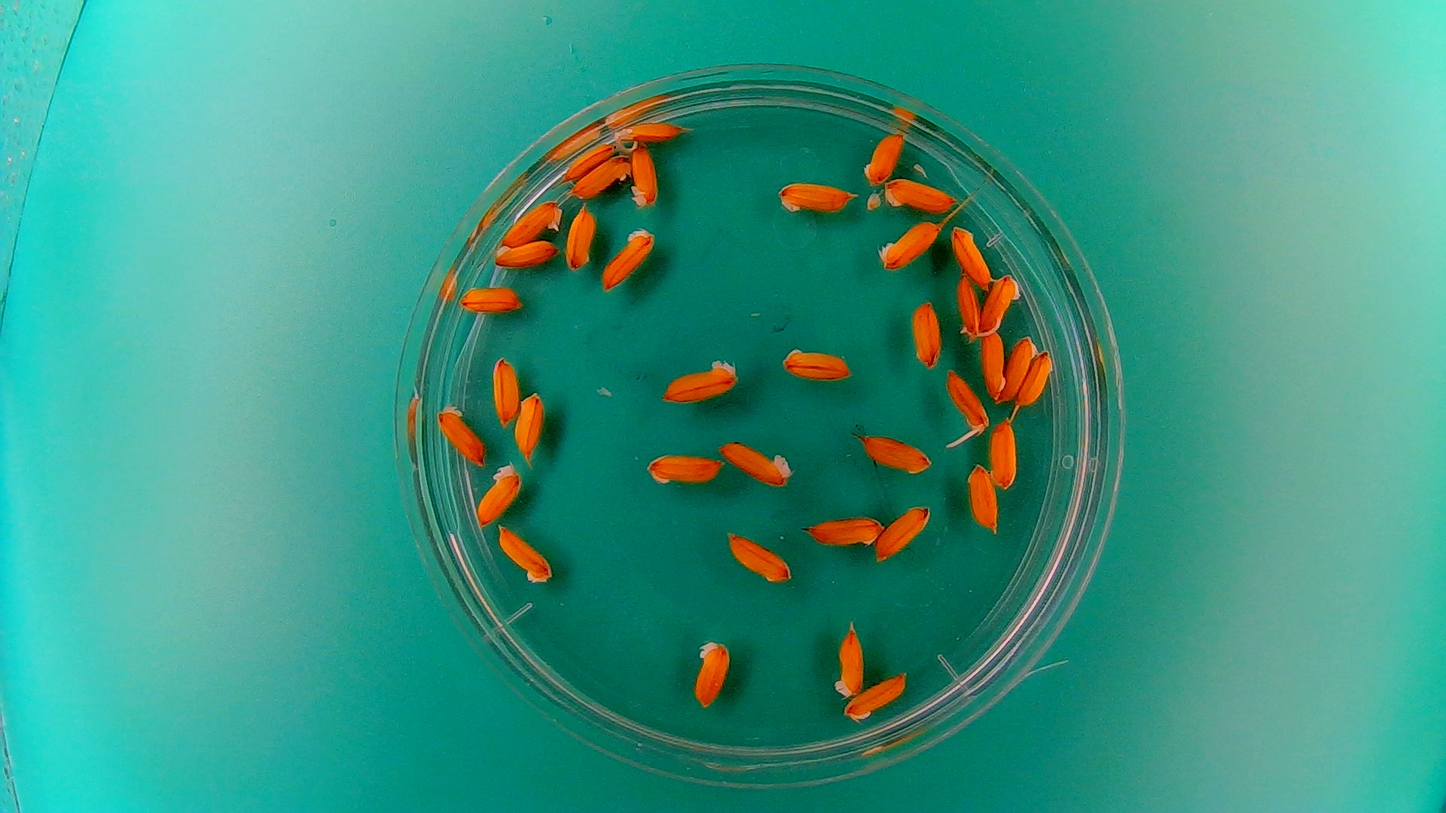no: (658, 353, 742, 406), (722, 527, 795, 586), (715, 436, 795, 489), (490, 524, 556, 587), (599, 223, 657, 293), (853, 429, 934, 476), (842, 668, 911, 723), (874, 218, 944, 272), (874, 501, 933, 564), (433, 399, 486, 467), (473, 460, 524, 528), (774, 176, 859, 216), (642, 449, 725, 489), (801, 511, 884, 550), (689, 636, 732, 710), (567, 153, 634, 200), (881, 175, 958, 214), (949, 221, 993, 289), (779, 343, 855, 382), (830, 617, 866, 699), (961, 462, 1002, 534), (978, 271, 1022, 336), (861, 127, 908, 187), (1002, 331, 1039, 403), (908, 296, 944, 369), (563, 202, 599, 273), (956, 270, 990, 343), (457, 279, 524, 316), (487, 353, 520, 428), (987, 417, 1020, 490), (563, 139, 618, 181), (513, 388, 545, 460), (1017, 349, 1056, 408), (627, 140, 660, 209), (492, 236, 560, 269), (978, 329, 1007, 400)
yes: (498, 196, 564, 248), (614, 117, 691, 159), (947, 366, 990, 440)
